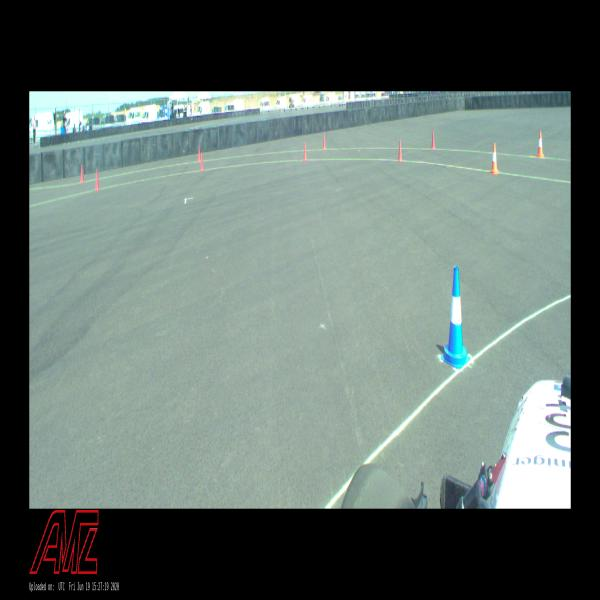blue_cone: (441, 267, 470, 370)
orange_cone: (490, 143, 498, 175), (535, 132, 544, 158)
